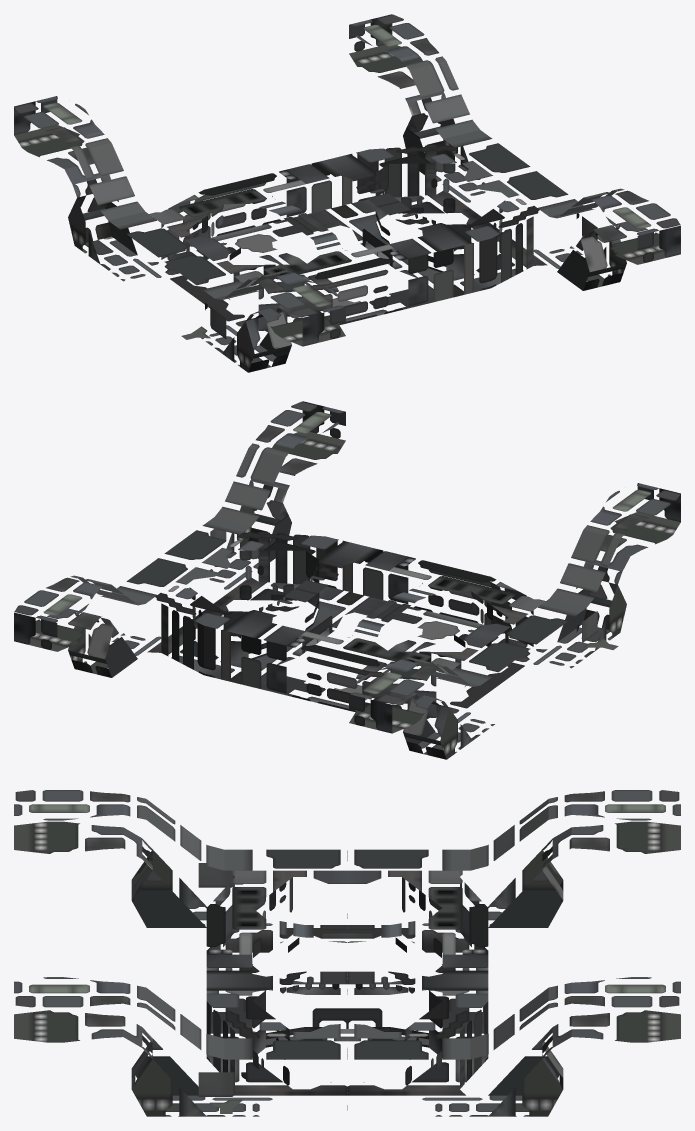
The model's file is frame.obj.
3 views of the same model, one above another, from view 1: azimuth 30°, elevation 25°; view 2: azimuth 150°, elevation 25°; view 3: azimuth 270°, elevation 25° (orthographic). The views are drawn at different scales.
Visible parts, largest first — view 1: 7cf689dd-1eef-8bf6-6ad1-de03ecfb1a05, d1c06e5a-9e5c-ef10-d450-b28d88e30d1c, 487ab08d-811e-2907-30f2-d24b9ccb7223, 2b9fe900-6c8f-273e-e138-6f986bbbc29f, 8745eeaf-5319-a50d-8b9d-fb3977d7cd1e, c4dfe120-b745-5eae-a7d9-37b55d8b1252, b2cb1ccc-1242-5784-09e6-369ddd9524be, 949fe6ac-1809-9cd4-9c62-712d0fc1b0db, 69cb2971-0ea8-21ae-bf05-8ecc505678e9; view 2: c4dfe120-b745-5eae-a7d9-37b55d8b1252, 487ab08d-811e-2907-30f2-d24b9ccb7223, d1c06e5a-9e5c-ef10-d450-b28d88e30d1c, 8745eeaf-5319-a50d-8b9d-fb3977d7cd1e, 2b9fe900-6c8f-273e-e138-6f986bbbc29f, 7cf689dd-1eef-8bf6-6ad1-de03ecfb1a05, 949fe6ac-1809-9cd4-9c62-712d0fc1b0db, b2cb1ccc-1242-5784-09e6-369ddd9524be, 69cb2971-0ea8-21ae-bf05-8ecc505678e9; view 3: 2b9fe900-6c8f-273e-e138-6f986bbbc29f, 8745eeaf-5319-a50d-8b9d-fb3977d7cd1e, c4dfe120-b745-5eae-a7d9-37b55d8b1252, 7cf689dd-1eef-8bf6-6ad1-de03ecfb1a05, d1c06e5a-9e5c-ef10-d450-b28d88e30d1c, 487ab08d-811e-2907-30f2-d24b9ccb7223, 949fe6ac-1809-9cd4-9c62-712d0fc1b0db, b2cb1ccc-1242-5784-09e6-369ddd9524be, 50bc8188-d60c-60ed-7530-eaaaee57a50e, 69cb2971-0ea8-21ae-bf05-8ecc505678e9.
Boxes of the visible parts, x1,y1,x2,y2 form: 7cf689dd-1eef-8bf6-6ad1-de03ecfb1a05: [14, 96, 187, 281]; d1c06e5a-9e5c-ef10-d450-b28d88e30d1c: [286, 145, 493, 256]; 487ab08d-811e-2907-30f2-d24b9ccb7223: [377, 180, 547, 308]; 2b9fe900-6c8f-273e-e138-6f986bbbc29f: [349, 14, 530, 202]; 8745eeaf-5319-a50d-8b9d-fb3977d7cd1e: [507, 171, 680, 290]; c4dfe120-b745-5eae-a7d9-37b55d8b1252: [164, 255, 345, 372]; b2cb1ccc-1242-5784-09e6-369ddd9524be: [147, 169, 316, 299]; 949fe6ac-1809-9cd4-9c62-712d0fc1b0db: [199, 221, 407, 332]; 69cb2971-0ea8-21ae-bf05-8ecc505678e9: [181, 303, 226, 339]; c4dfe120-b745-5eae-a7d9-37b55d8b1252: [507, 483, 680, 668]; 487ab08d-811e-2907-30f2-d24b9ccb7223: [201, 532, 408, 643]; d1c06e5a-9e5c-ef10-d450-b28d88e30d1c: [147, 567, 317, 695]; 8745eeaf-5319-a50d-8b9d-fb3977d7cd1e: [164, 401, 345, 589]; 2b9fe900-6c8f-273e-e138-6f986bbbc29f: [14, 558, 187, 677]; 7cf689dd-1eef-8bf6-6ad1-de03ecfb1a05: [349, 642, 530, 759]; 949fe6ac-1809-9cd4-9c62-712d0fc1b0db: [378, 556, 547, 686]; b2cb1ccc-1242-5784-09e6-369ddd9524be: [287, 608, 495, 719]; 69cb2971-0ea8-21ae-bf05-8ecc505678e9: [576, 611, 618, 649]; 2b9fe900-6c8f-273e-e138-6f986bbbc29f: [354, 977, 680, 1116]; 8745eeaf-5319-a50d-8b9d-fb3977d7cd1e: [14, 977, 347, 1116]; c4dfe120-b745-5eae-a7d9-37b55d8b1252: [14, 790, 347, 927]; 7cf689dd-1eef-8bf6-6ad1-de03ecfb1a05: [354, 790, 680, 927]; d1c06e5a-9e5c-ef10-d450-b28d88e30d1c: [347, 954, 488, 1095]; 487ab08d-811e-2907-30f2-d24b9ccb7223: [206, 954, 347, 1095]; 949fe6ac-1809-9cd4-9c62-712d0fc1b0db: [206, 870, 347, 1011]; b2cb1ccc-1242-5784-09e6-369ddd9524be: [347, 870, 488, 1011]; 50bc8188-d60c-60ed-7530-eaaaee57a50e: [198, 1072, 247, 1113]; 69cb2971-0ea8-21ae-bf05-8ecc505678e9: [198, 863, 242, 887].
Bounding box in the file's own units: 2.66 × 0.5762 × 3.08.
